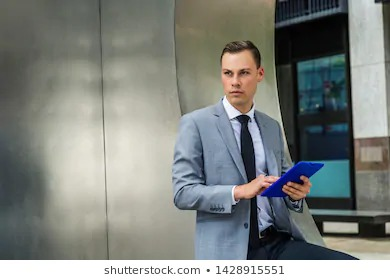F_M_suit jacket: (169, 94, 308, 261)
F_tie: (232, 110, 262, 249)
